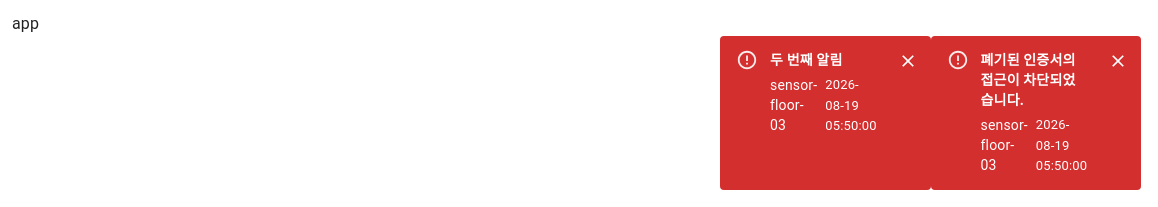
Test case: CriticalEventProvider › closes the toast the user dismisses and keeps the others
expect the link "두 번째 알림" is shown: met, box [770,52,842,68]
# 새 알림이 위에 쌓이므로 두 번째 닫기 버튼이 REVOKED의 것이다.
Click the button named "닫기" next to "폐기된 인증서의 접근이 차단되었습니다.": (1118, 61) [1103,46,1133,76]
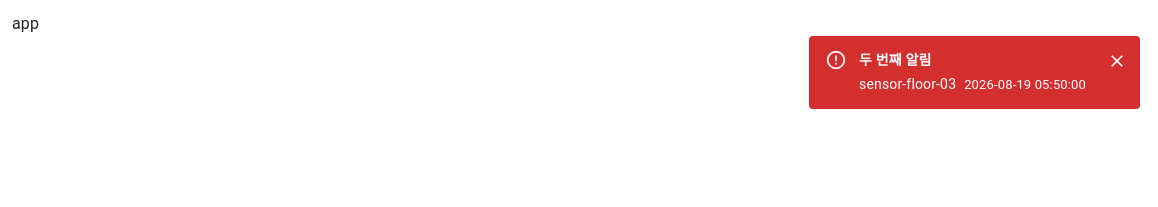
expect the link "두 번째 알림" is shown: met, box [859,52,932,68]
expect the link "폐기된 인증서의 접근이 차단되었습니다." is gone: met
